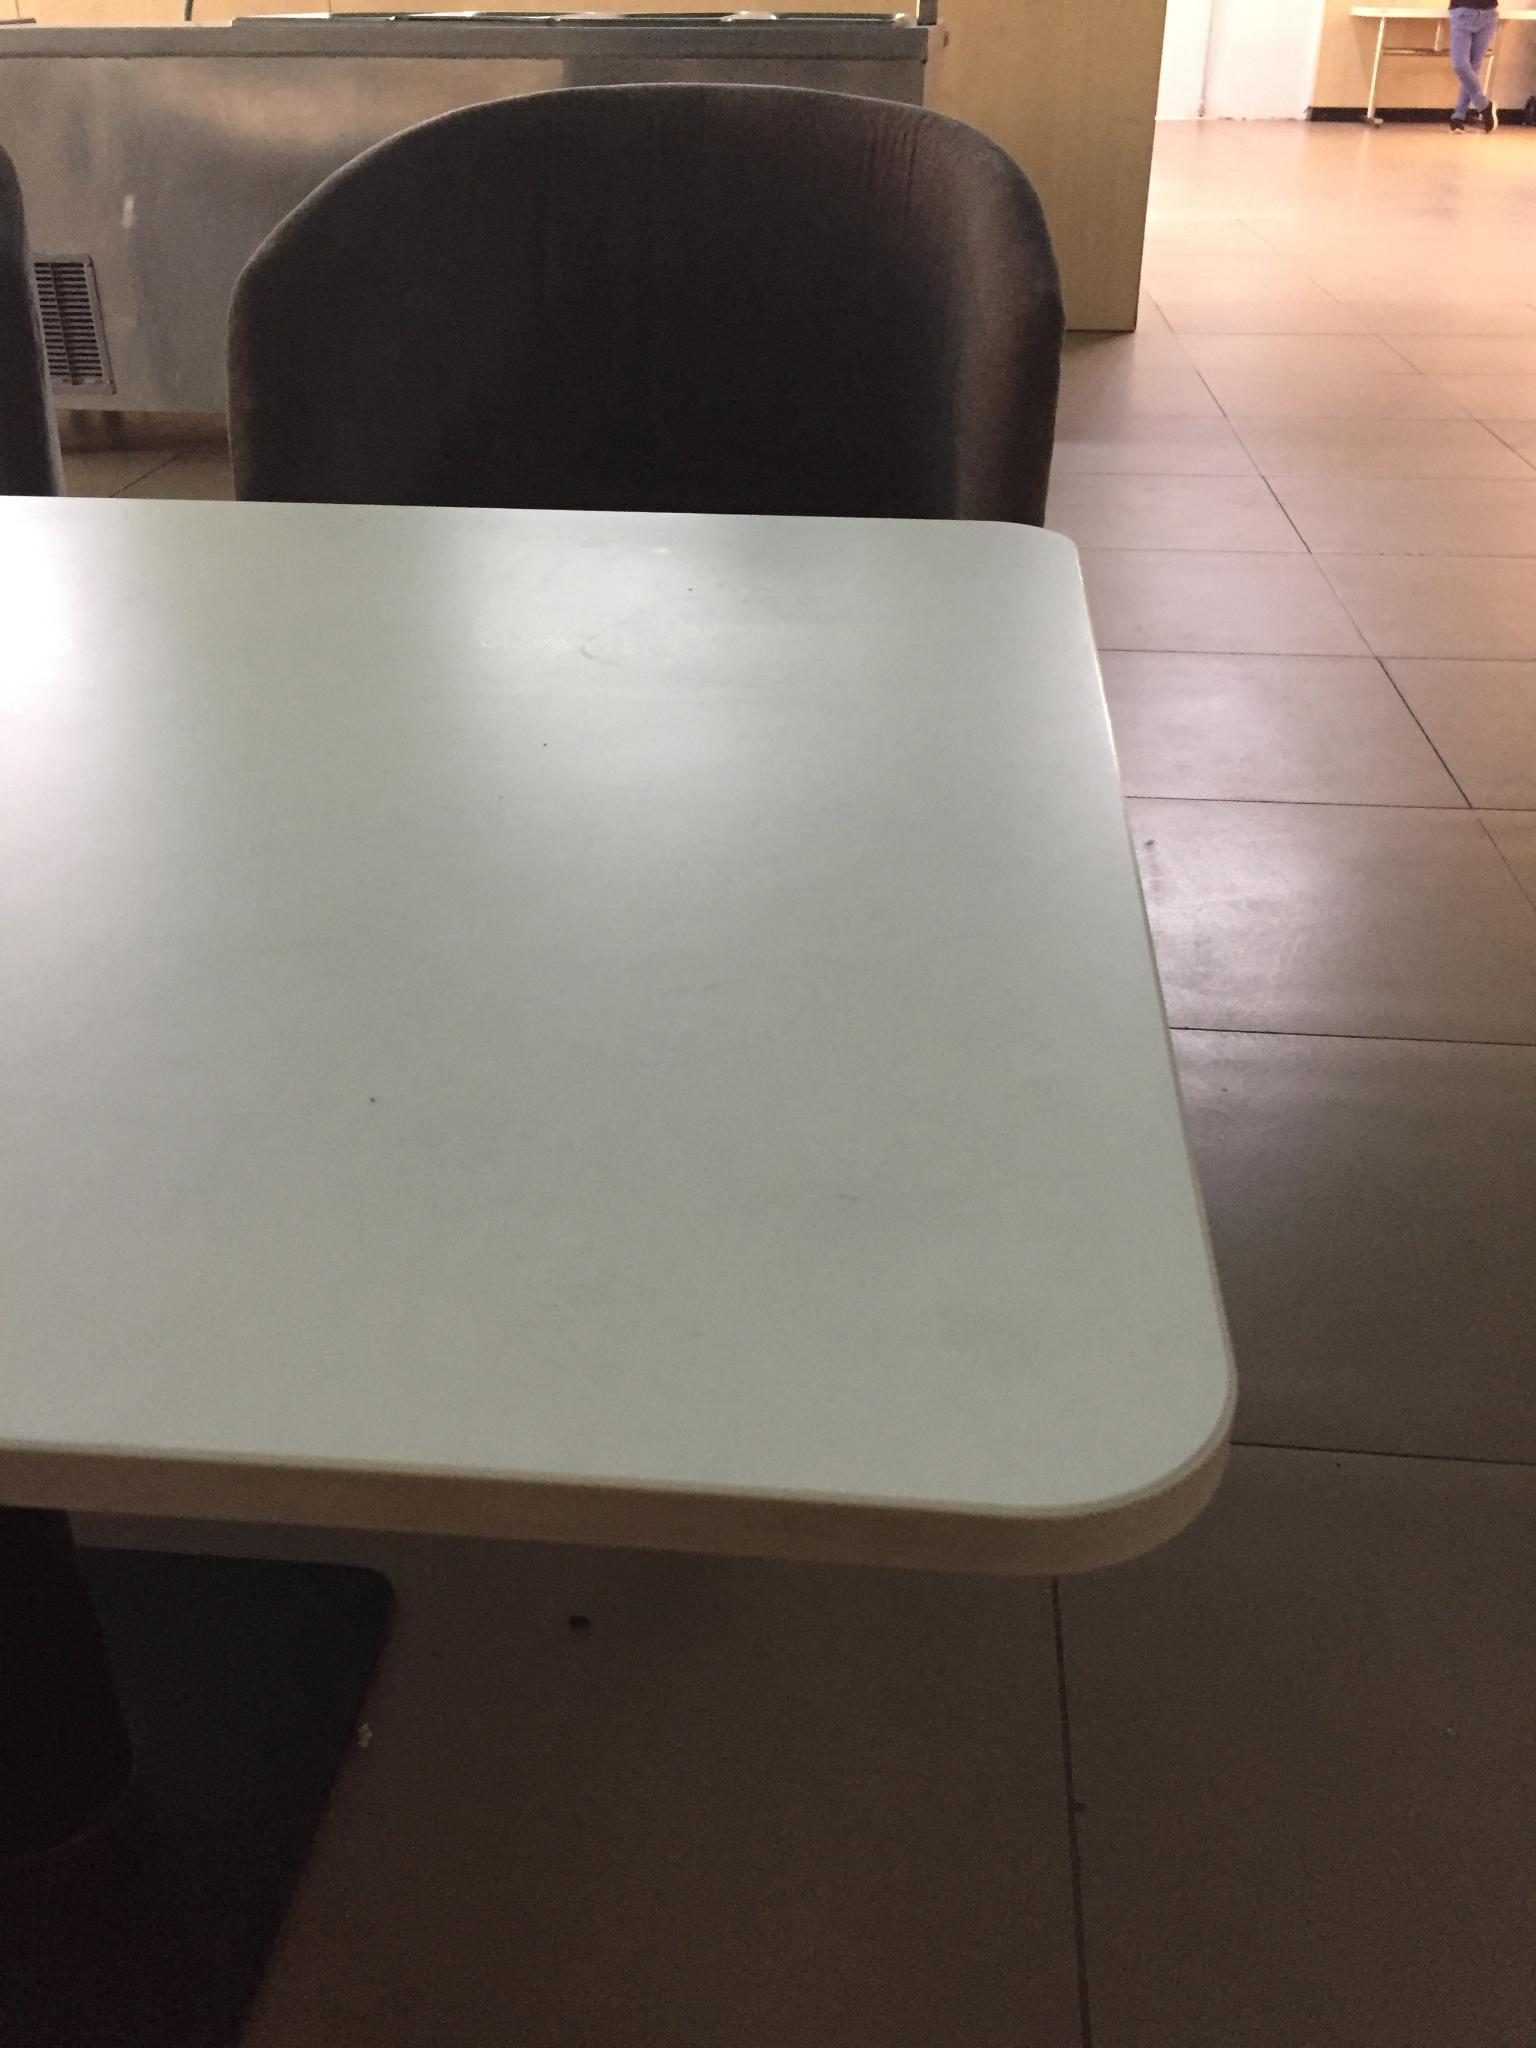chair: (224, 79, 1063, 524), (0, 140, 47, 545)
